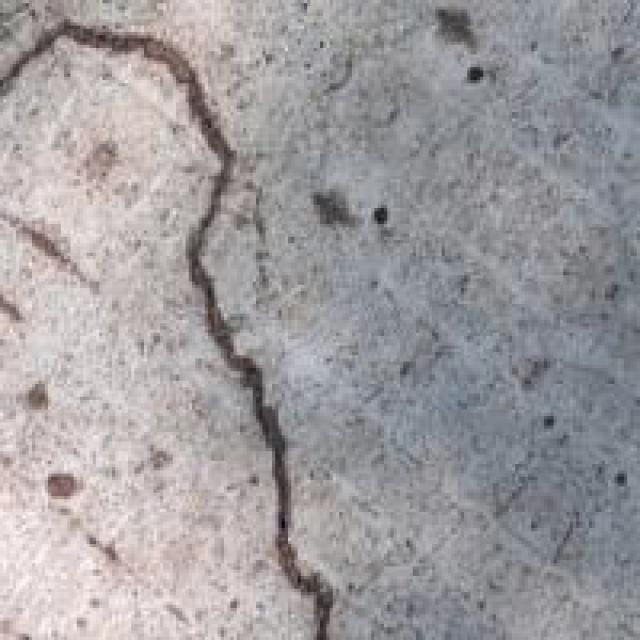crack: (0, 18, 354, 640)
